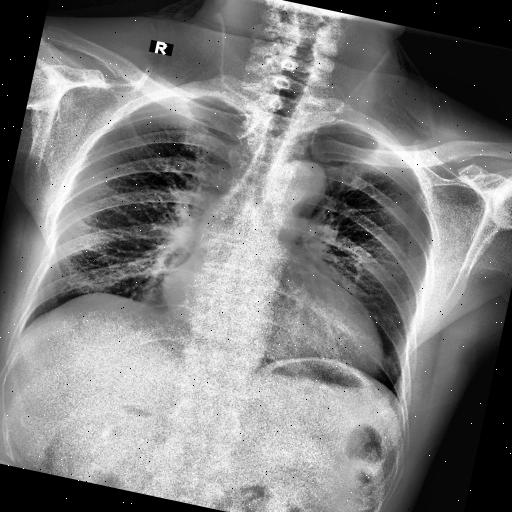0- Aortic enlargement: (265, 154, 330, 212), (263, 150, 332, 204), (276, 154, 332, 208)
3- Cardiomegaly: (148, 254, 396, 378), (153, 262, 394, 376), (150, 274, 392, 382)
